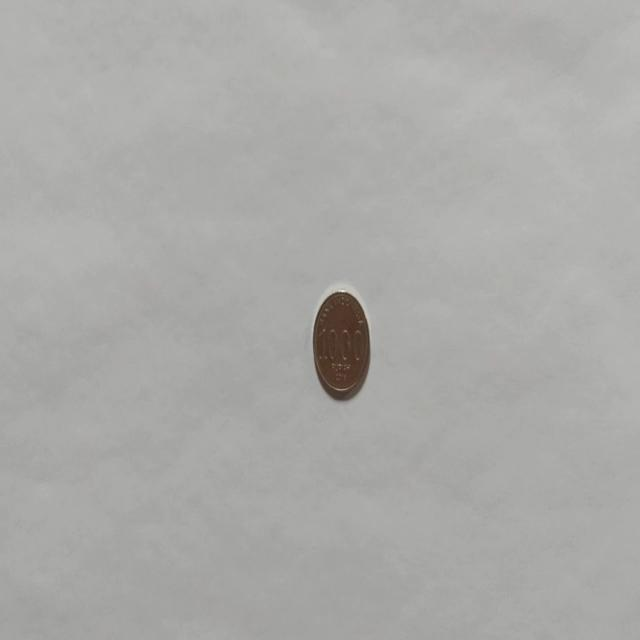seribu rupiah koin: (311, 283, 371, 401)
